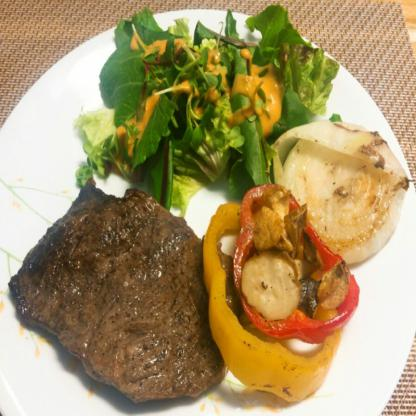Carne: (7, 182, 223, 401)
